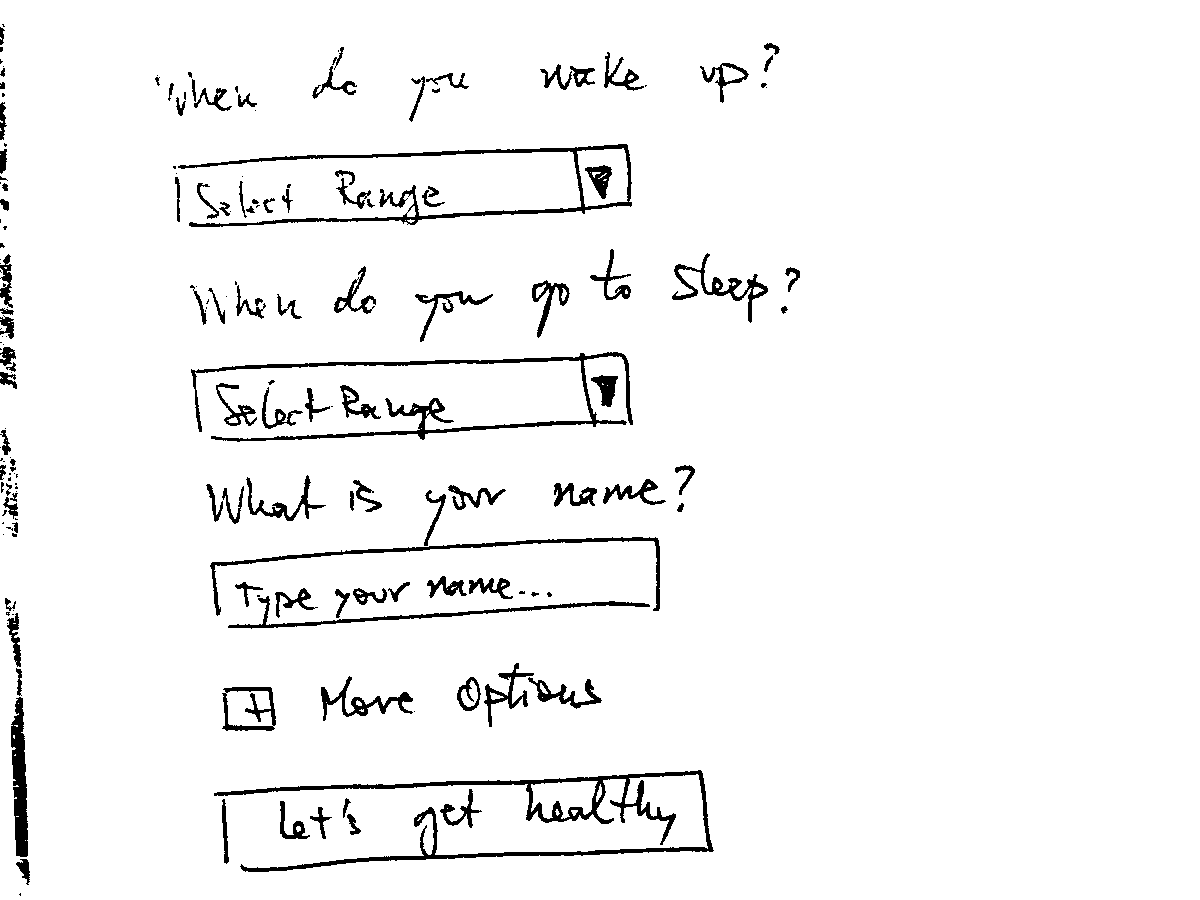Button: (213, 764, 716, 875)
Select: (186, 348, 636, 448), (167, 139, 639, 232)
